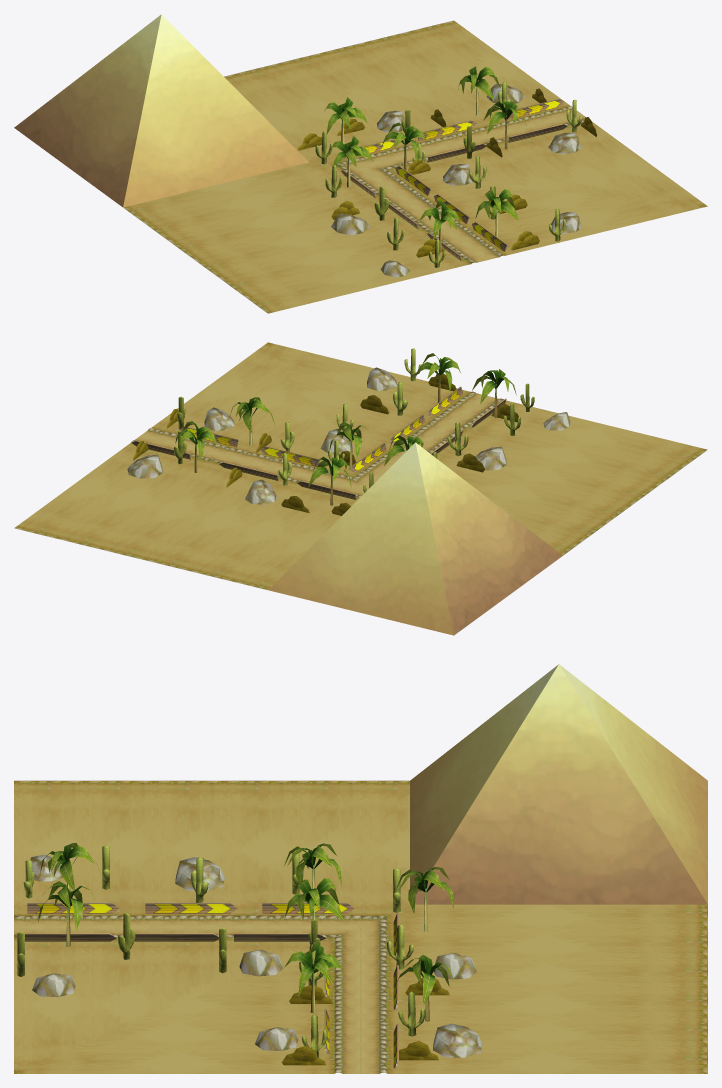
File: DesertRoad02_Right.FBX
3 renders of one model, top to bottom at view 1: azimuth 30°, elevation 25°; view 2: azimuth 150°, elevation 25°; view 3: azimuth 270°, elevation 25°, orthographic. The views are drawn at different scales.
Parts seen in each view (by area): view 1: Road, Pyramid, PalmTree (×7), Stone (×3); view 2: Road, Pyramid, PalmTree (×6), Stone (×6), Fence; view 3: Road, Pyramid, PalmTree (×7), Stone (×6), Fence (×6).
Part boxes in pixels (x1,y1,x2,y2): Road: [123, 20, 707, 313]; Pyramid: [14, 14, 308, 207]; PalmTree (×7): [324, 66, 526, 252]; Stone (×3): [331, 132, 580, 235]; Road: [14, 342, 707, 589]; Pyramid: [268, 442, 562, 635]; PalmTree (×6): [175, 353, 516, 505]; Stone (×6): [127, 367, 506, 504]; Fence: [260, 446, 319, 466]; Road: [14, 780, 707, 1073]; Pyramid: [410, 664, 707, 904]; PalmTree (×7): [38, 843, 453, 1021]; Stone (×6): [32, 857, 482, 1057]; Fence (×6): [25, 903, 354, 941].
Bounding box in the file's own units: 10000 × 2936 × 10000.
